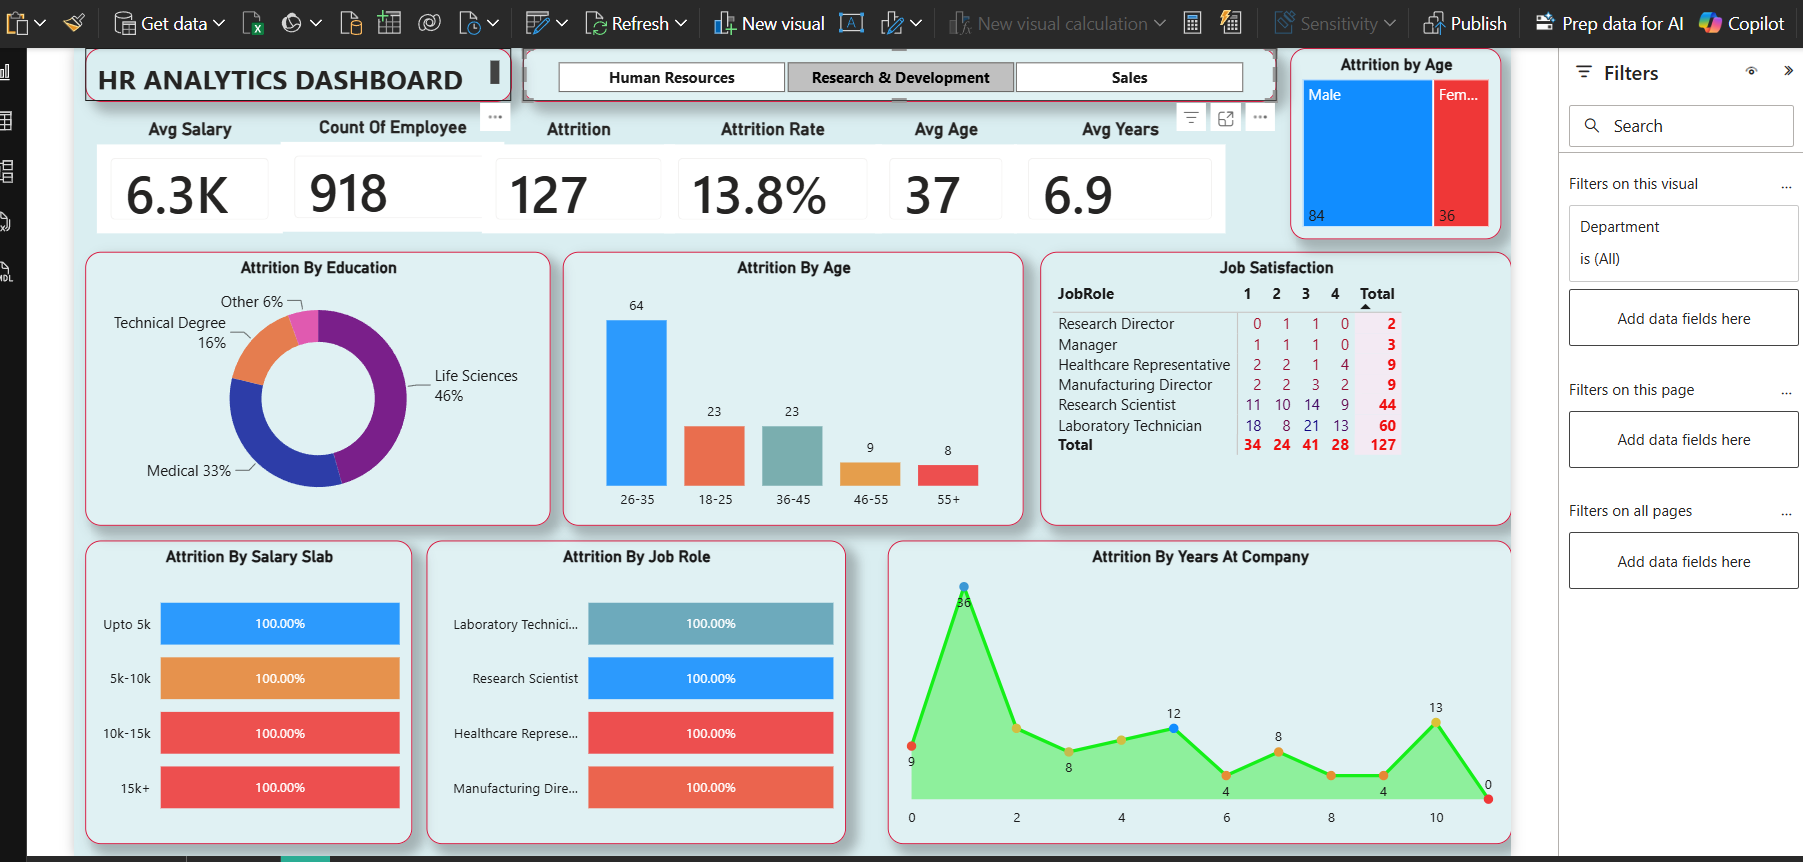

This screenshot's page, from the dashboard's own definition file:
{"tool":"powerbi","page":{"name":"Page 1","canvas":[1280,720],"ordinal":0},"visuals":[{"type":"cardVisual","title":"Count Of Employee ","fields":{"Data":["CountNonNull(HR_Analytics.EmpID)"]},"box":[179.8,61.7,209.9,108.4],"z":0},{"type":"cardVisual","title":"Attrition","fields":{"Data":["Sum(HR_Analytics.AttritionCount)"]},"box":[358.1,63.1,182.5,107],"z":1000},{"type":"cardVisual","title":"Attrition Rate ","fields":{"Data":["HR_Analytics.AttritionRate"]},"box":[521.4,63.1,203.1,107],"z":2000},{"type":"cardVisual","title":"Avg Age","fields":{"Data":["Avg(HR_Analytics.Age)"]},"box":[709.4,63.1,135.8,107],"z":3000},{"type":"cardVisual","title":"Avg Salary","fields":{"Data":["Avg(HR_Analytics.MonthlyIncome)"]},"box":[15.1,63.1,175.6,107],"z":4000},{"type":"cardVisual","title":"Avg Years ","fields":{"Data":["Avg(HR_Analytics.YearsAtCompany)"]},"box":[832.9,63.1,199,107],"z":5000},{"type":"donutChart","title":"Attrition By Education","fields":{"Category":["HR_Analytics.EducationField"],"Y":["Sum(HR_Analytics.AttritionCount)"]},"box":[9.6,181.1,414.4,244.3],"z":6000},{"type":"pivotTable","title":"Job Satisfaction ","fields":{"Rows":["HR_Analytics.JobRole"],"Values":["Sum(HR_Analytics.AttritionCount)"],"Columns":["HR_Analytics.JobSatisfaction"]},"box":[860.4,181.1,419.9,244.3],"z":7000},{"type":"columnChart","title":"Attrition By Age","fields":{"Category":["HR_Analytics.AgeGroup"],"Y":["Sum(HR_Analytics.AttritionCount)"]},"box":[434.9,181.4,410.5,244.2],"z":8000},{"type":"hundredPercentStackedBarChart","title":"Attrition By Salary Slab","fields":{"Category":["HR_Analytics.SalarySlab"],"Y":["Sum(HR_Analytics.AttritionCount)"]},"box":[9.6,439.1,290.9,270.3],"z":9000},{"type":"hundredPercentStackedBarChart","title":"Attrition By Job Role","fields":{"Category":["HR_Analytics.JobRole"],"Y":["Sum(HR_Analytics.AttritionCount)"]},"box":[314.2,439.1,373.2,270.3],"z":10000},{"type":"areaChart","title":"Attrition By Years At Company","fields":{"Category":["HR_Analytics.YearsAtCompany"],"Y":["Sum(HR_Analytics.AttritionCount)"]},"box":[724.5,439.1,555.7,270.3],"z":11000},{"type":"treemap","title":"Attrition by Age","fields":{"Group":["HR_Analytics.Gender"],"Values":["Sum(HR_Analytics.AttritionCount)"]},"box":[1082.7,0,188,170.2],"z":12000},{"type":"slicer","fields":{"Values":["HR_Analytics.Department"]},"box":[399.3,0,671,48],"z":13000},{"type":"textbox","box":[9.6,0,380.1,48],"z":14000}]}

Visuals, with their boxes in screenshot pixels (x1, y1, x2, y2):
"Count Of Employee " cardVisual: x1=225 y1=57 x2=483 y2=190
"Attrition" cardVisual: x1=444 y1=59 x2=668 y2=190
"Attrition Rate " cardVisual: x1=644 y1=59 x2=894 y2=190
"Avg Age" cardVisual: x1=875 y1=59 x2=1042 y2=190
"Avg Salary" cardVisual: x1=23 y1=59 x2=239 y2=190
"Avg Years " cardVisual: x1=1027 y1=59 x2=1271 y2=190
"Attrition By Education" donutChart: x1=16 y1=203 x2=525 y2=503
"Job Satisfaction " pivotTable: x1=1060 y1=203 x2=1575 y2=503
"Attrition By Age" columnChart: x1=538 y1=204 x2=1042 y2=503
"Attrition By Salary Slab" hundredPercentStackedBarChart: x1=16 y1=520 x2=373 y2=852
"Attrition By Job Role" hundredPercentStackedBarChart: x1=390 y1=520 x2=848 y2=852
"Attrition By Years At Company" areaChart: x1=894 y1=520 x2=1575 y2=852
"Attrition by Age" treemap: x1=1333 y1=0 x2=1564 y2=190
slicer - HR_Analytics.Department: x1=495 y1=0 x2=1318 y2=40
textbox: x1=16 y1=0 x2=483 y2=40
